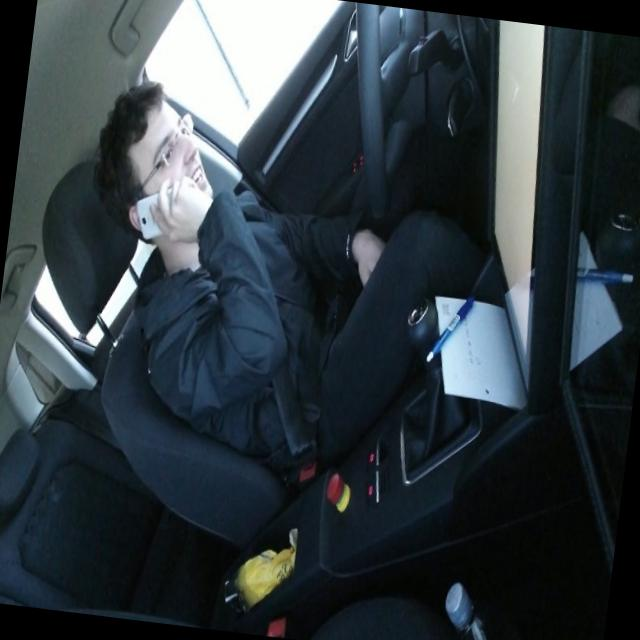pen: (422, 285, 476, 370)
